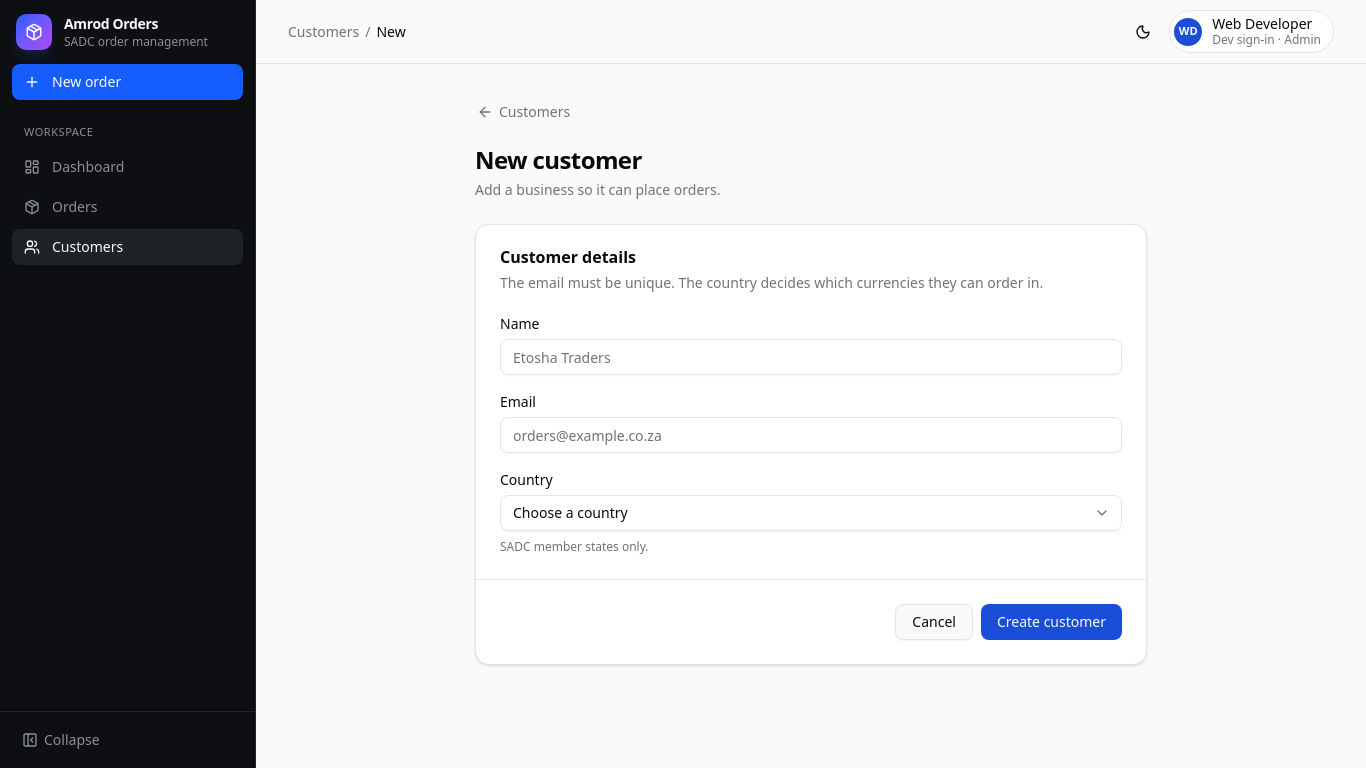
Scenario: New customer form › validates before sending anything
The image size is (1366, 768).
Step 1. Type "not-an-email" into the field labelled "Email" → coordinates (811, 435), box [500,417,1122,453]
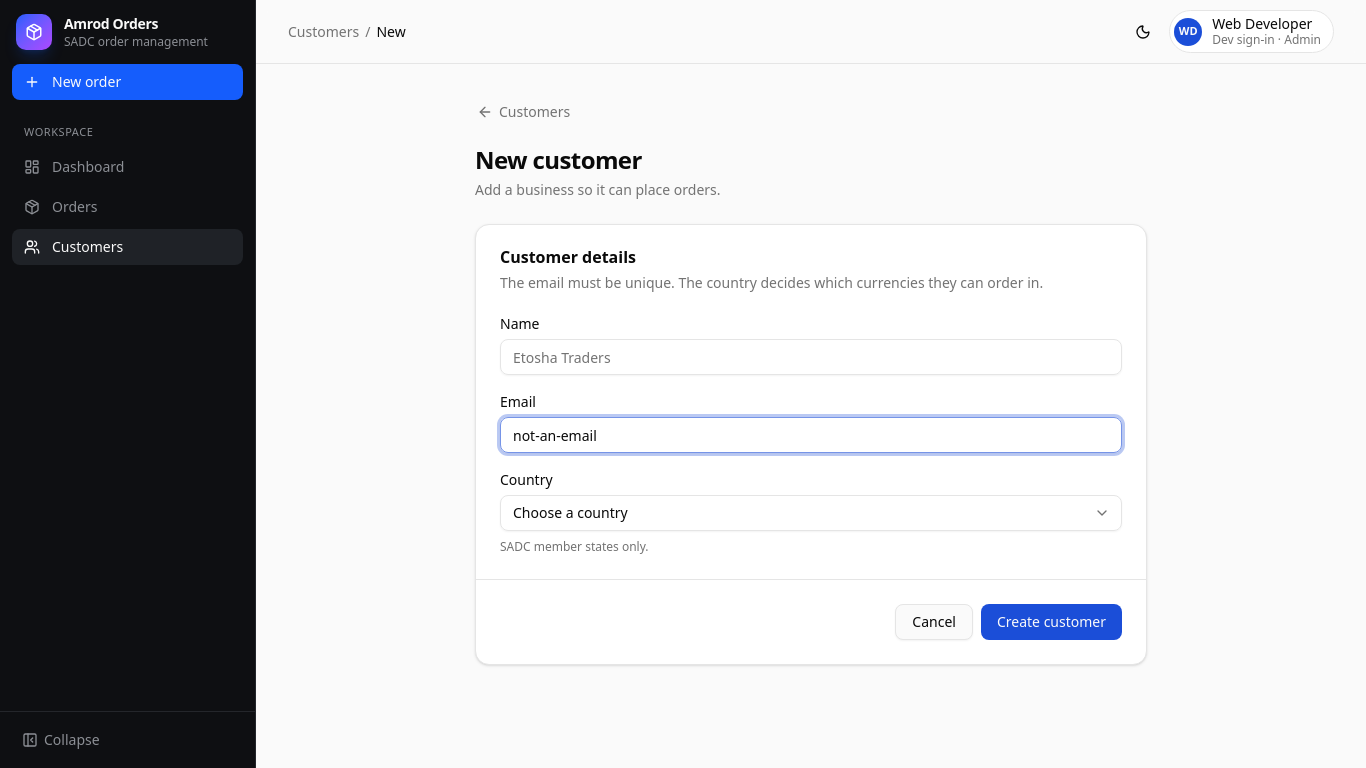
Step 2. Click the button "Create customer" → coordinates (1051, 622), box [981,604,1122,640]
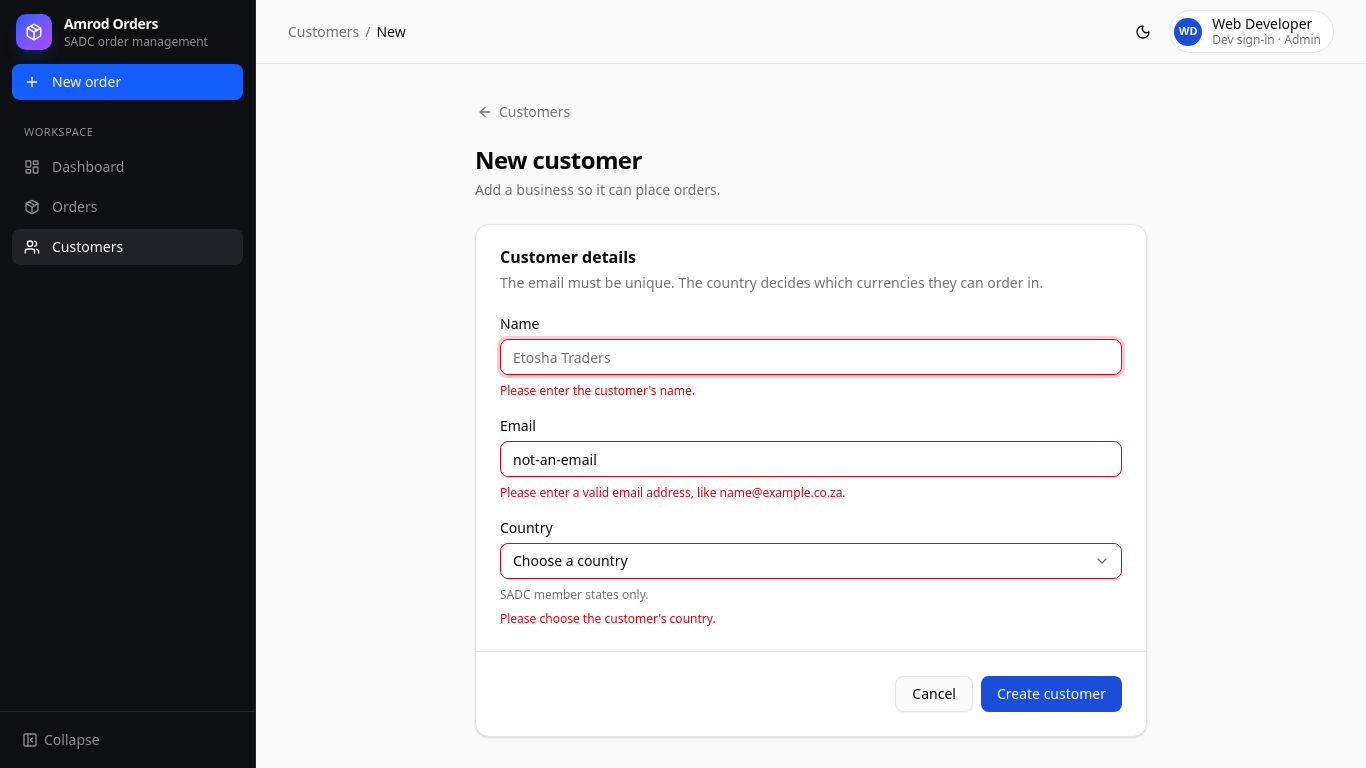
Now the text "Please enter the customer's name." is shown, box [500,382,695,399]
Now the text "Please enter a valid email address, like name@example.co.za." is shown, box [500,484,846,501]
Now the text "Please choose the customer's country." is shown, box [500,610,716,627]
